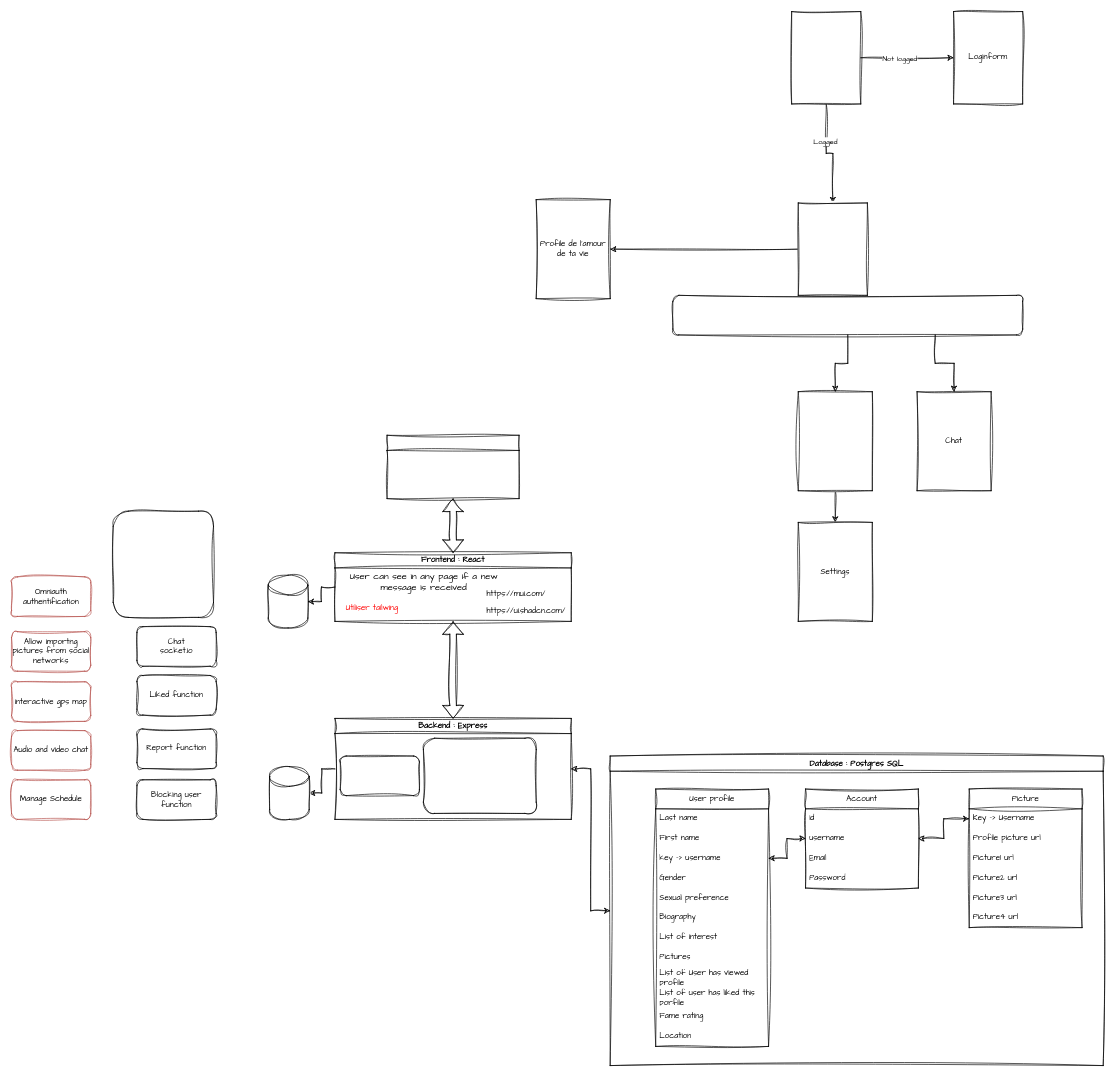
The diagram is 1115 pixels wide and 1077 high, and some of its shapes have lost their labels. Here are the shapes that lost their labels. From the top down, the centre of each, then its label:
At (826,57): "HOME PAGE Login ou acceuil".
At (832,248): "Accueil avec les photos".
At (847,315): "Navbar Accueil Notification Profils Deconexion Chat".
At (835,441): "Profile de toi".
At (452,467): "ServerWeb : Nginx".
At (163,564): "Notification service : like profile has been viewed message connection unlikes".
At (379,775): "Browsing Algo".
At (479,775): "Criteria research function : By age gape Fame rating gape Location Interest tags".
